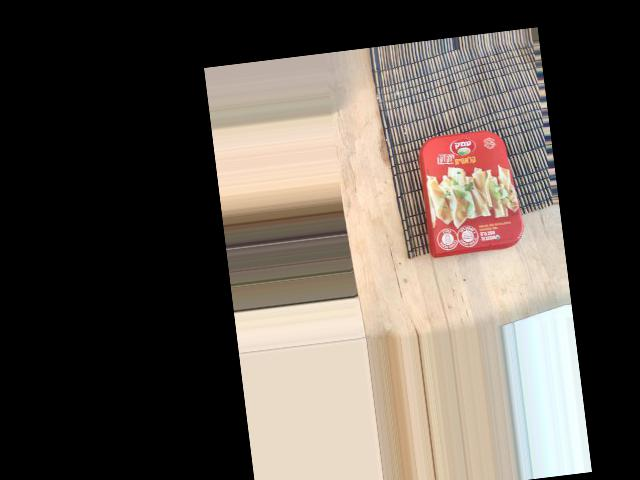cheese: (420, 76, 563, 179)
